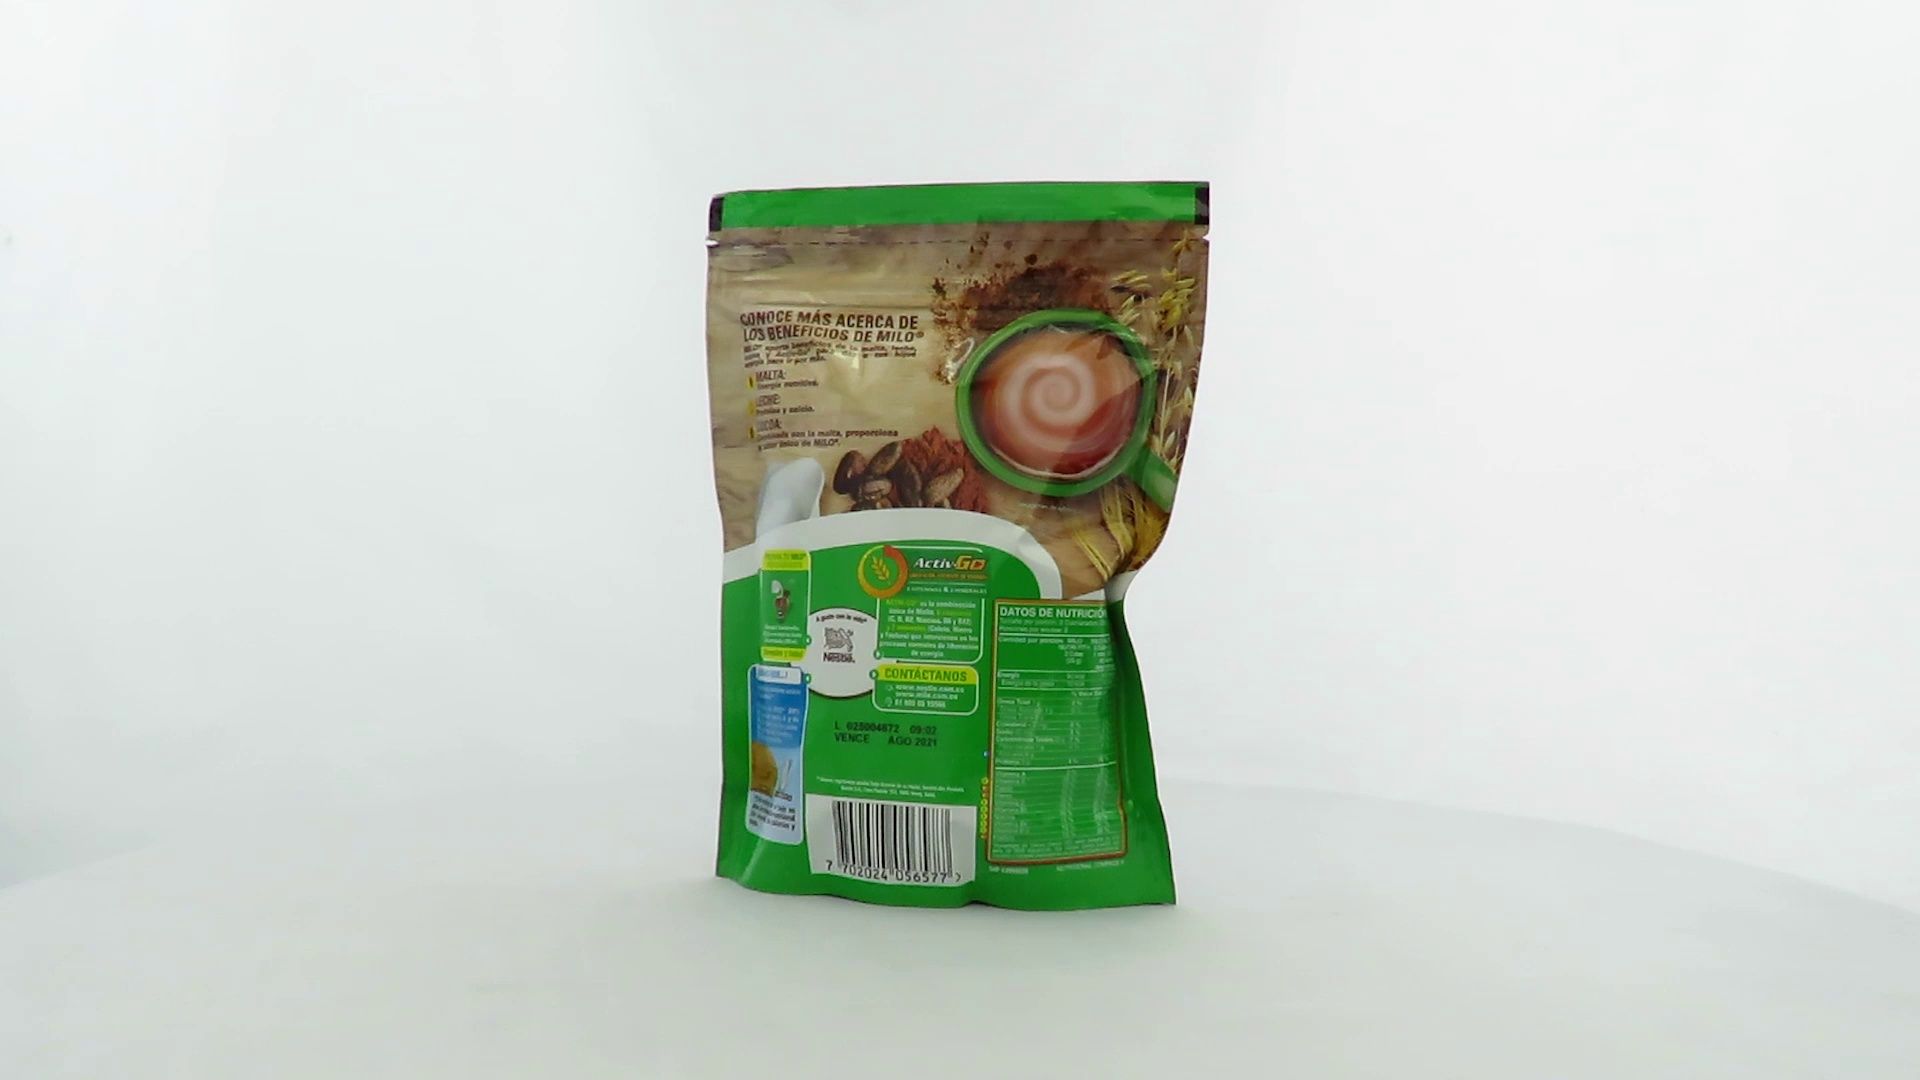COL0170205DYP20000: (700, 175, 1216, 918)
